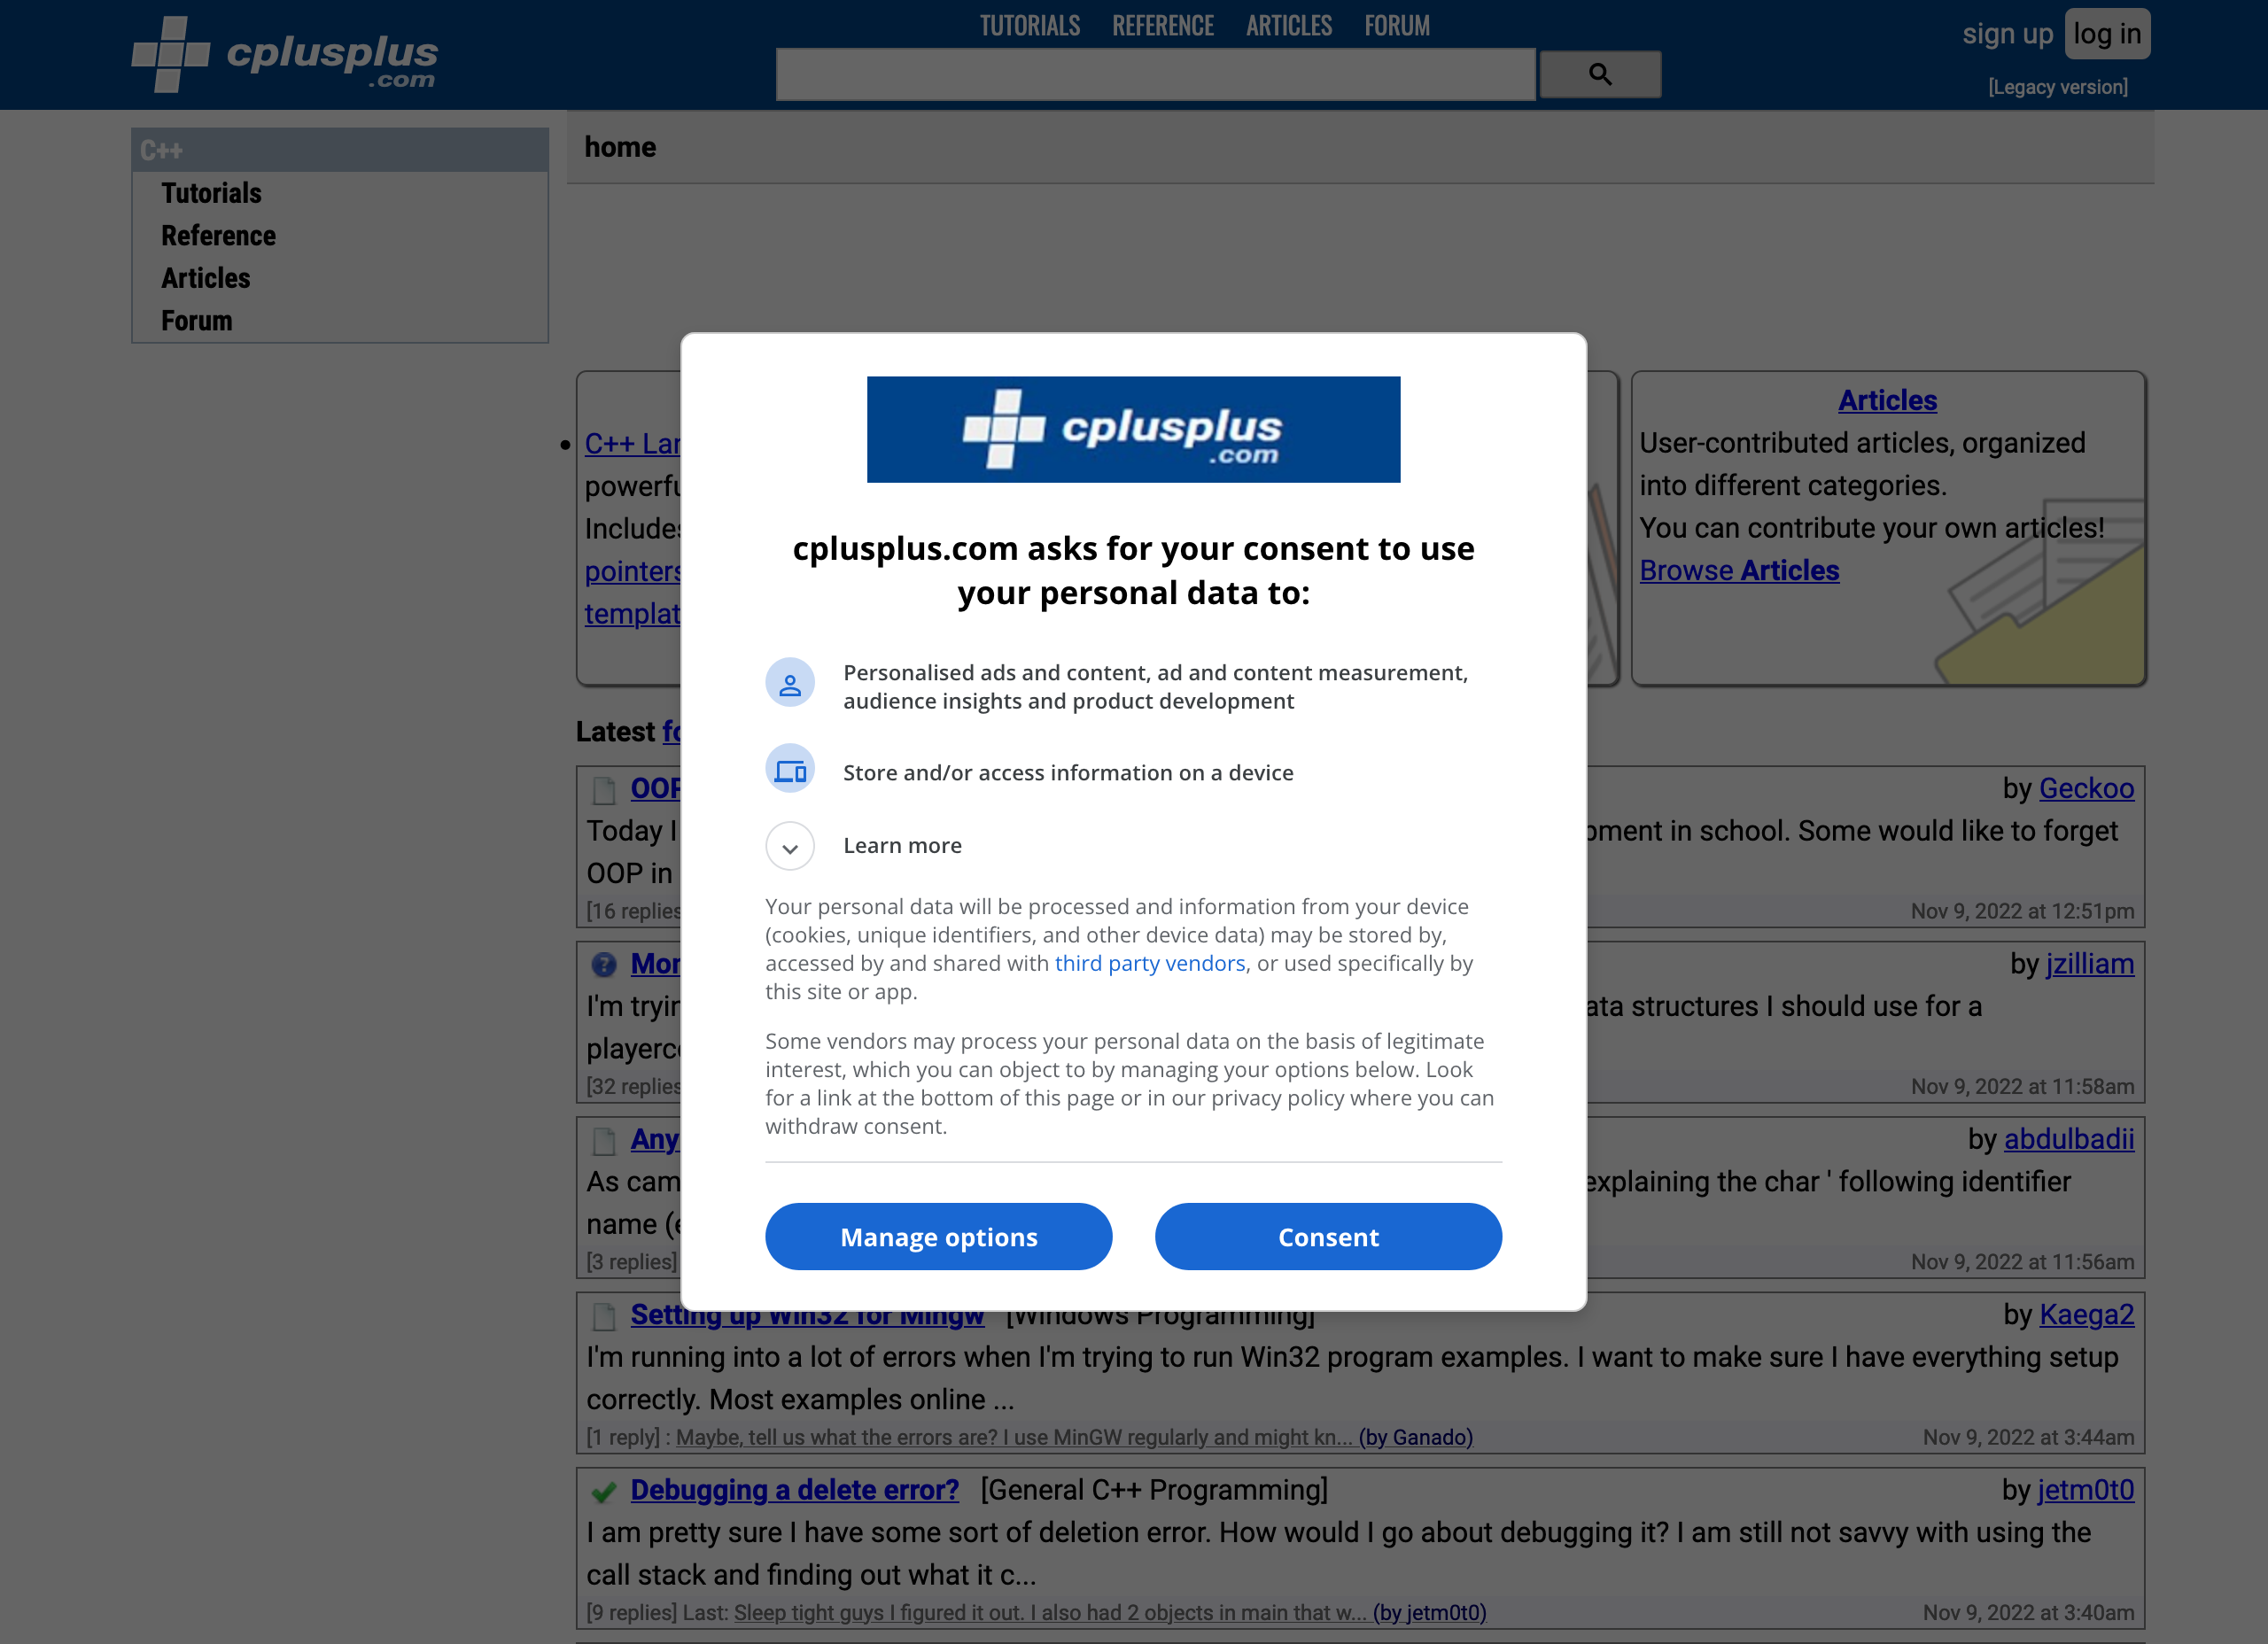Login: (2062, 4, 2161, 65)
